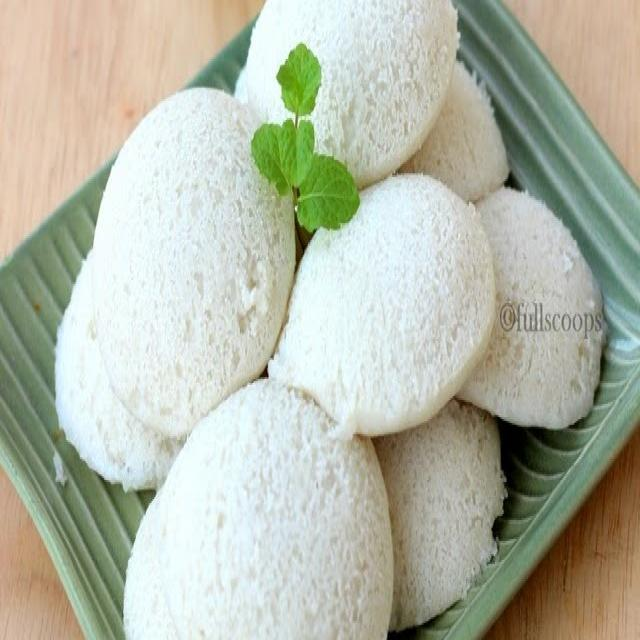Idli: (54, 2, 612, 640)
